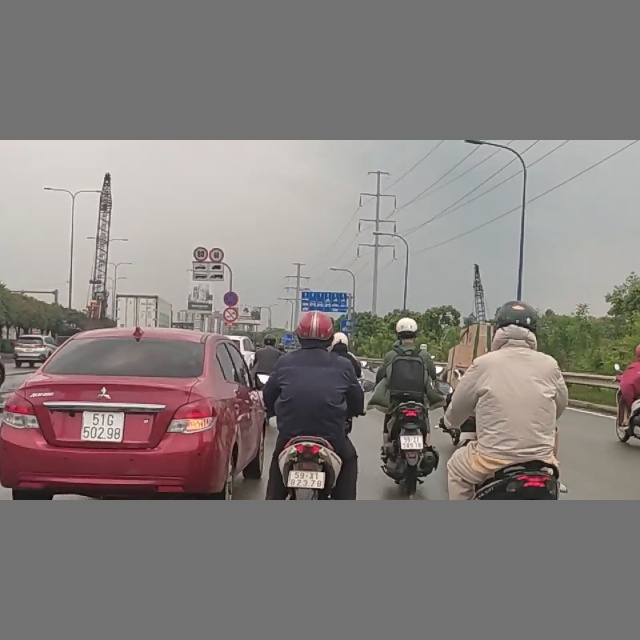P.130: (223, 291, 239, 307)
